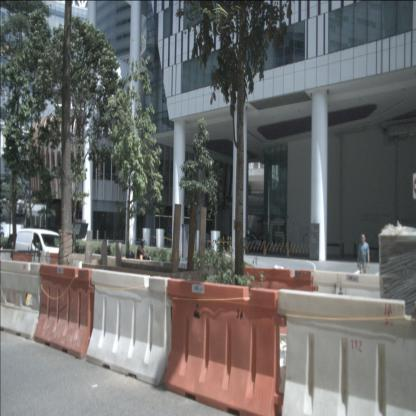human-pedestrian-adult: (357, 232, 370, 294)
movable_object-barrier: (276, 288, 415, 415), (165, 278, 286, 415), (312, 270, 416, 410), (86, 270, 172, 386), (34, 263, 94, 361), (0, 258, 41, 340)
movable_object-trafficcone: (231, 265, 318, 345)
vehicle-car: (14, 228, 68, 274)
vehicle-motorcycle: (126, 238, 156, 278)
